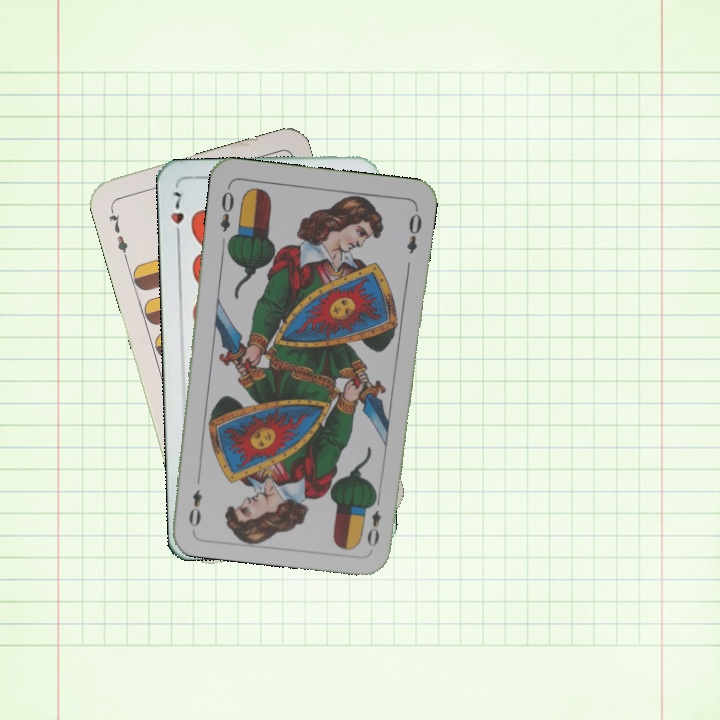E7: (104, 203, 131, 262)
EO: (363, 491, 384, 549), (215, 182, 237, 234)
H7: (167, 186, 187, 244)
